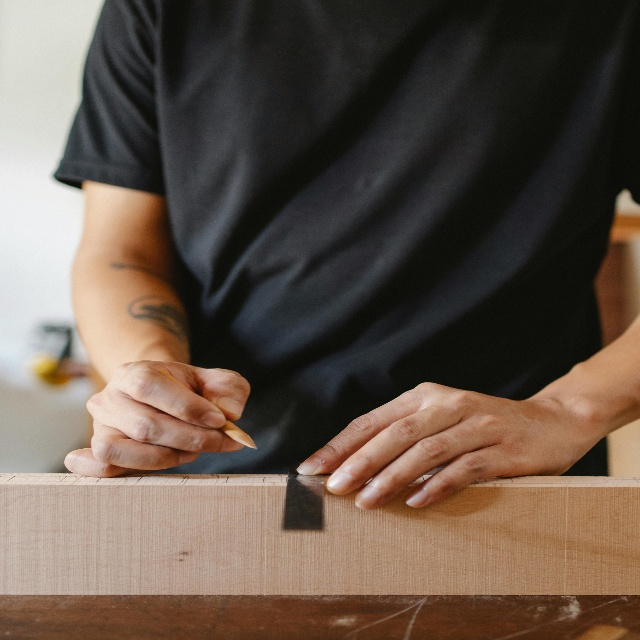Sin_guantes: (295, 381, 582, 511), (64, 359, 251, 478)
